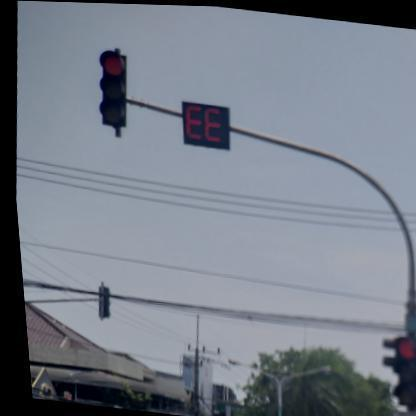red: (92, 50, 132, 126), (382, 335, 415, 406)
